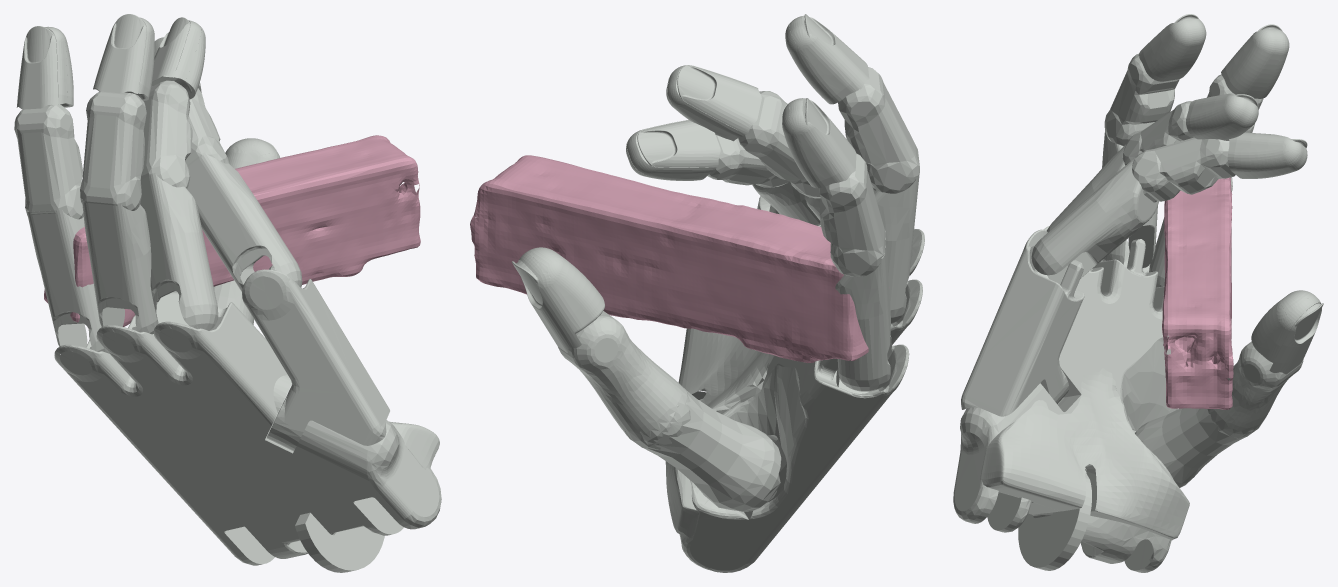
3 views of the same model, side by side, from view 1: azimuth 30°, elevation 25°; view 2: azimuth 150°, elevation 25°; view 3: azimuth 270°, elevation 25° (orthographic). The views are drawn at different scales.
Parts seen in each view (by area): view 1: hand, world; view 2: hand, world; view 3: hand, world.
Boxes of the visible parts, x1=… form: hand: x1=14, y1=14, x2=441, y2=572; world: x1=44, y1=135, x2=420, y2=326; hand: x1=512, y1=14, x2=924, y2=572; world: x1=470, y1=155, x2=889, y2=362; hand: x1=953, y1=14, x2=1323, y2=572; world: x1=1162, y1=177, x2=1233, y2=409.
Bounding box in the file's own units: 0.1374 × 0.1957 × 0.1288.
